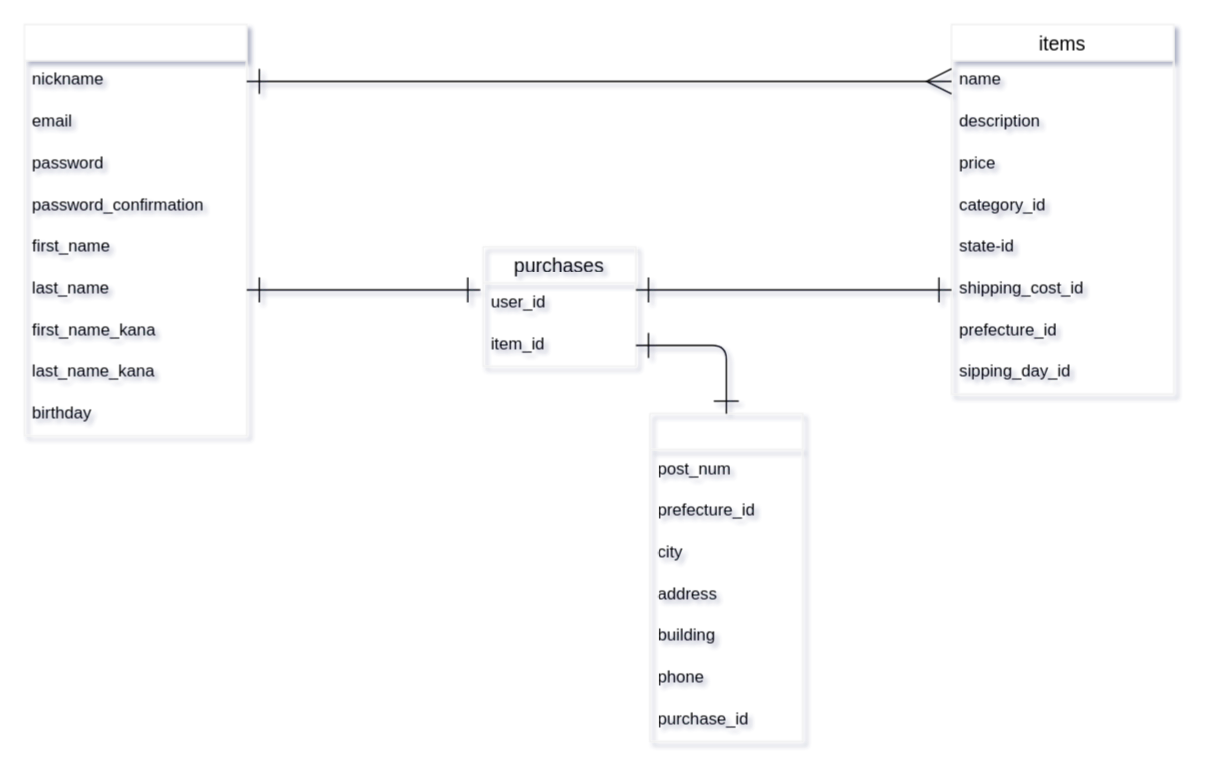
The diagram is 1207 pixels wide and 778 high, and some of its shapes have lost their labels. The shapes that lost their labels are listed below. From the top down, each one's box as (x1, y1, x2, y2) in pixels, then its label:
(23, 23, 247, 436): users
(648, 412, 803, 742): deliveries
